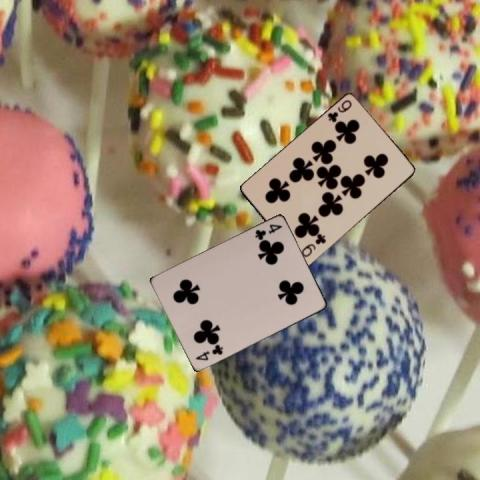4c: (252, 221, 283, 242), (193, 342, 224, 362)
9c: (298, 232, 327, 259), (325, 97, 353, 124)
